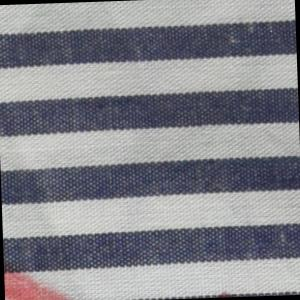Stain: (4, 257, 76, 300), (213, 289, 239, 299)
